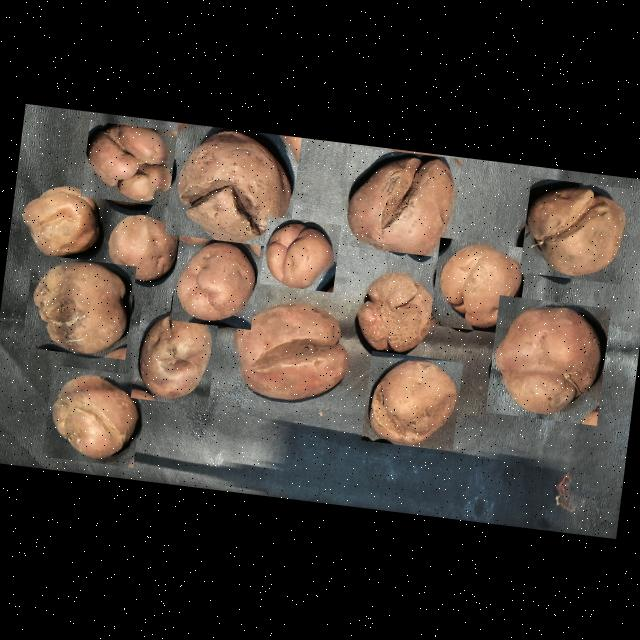Damaged potato: (164, 121, 300, 247), (226, 292, 354, 409), (340, 144, 460, 258), (518, 175, 632, 284), (20, 252, 136, 358), (360, 349, 462, 450), (129, 303, 218, 406), (348, 263, 440, 357)
Diseased-fungal potato: (484, 293, 610, 425), (40, 364, 143, 466), (428, 236, 526, 334), (168, 234, 260, 328), (80, 120, 178, 206), (16, 178, 105, 261), (100, 207, 184, 284), (258, 214, 340, 292)
